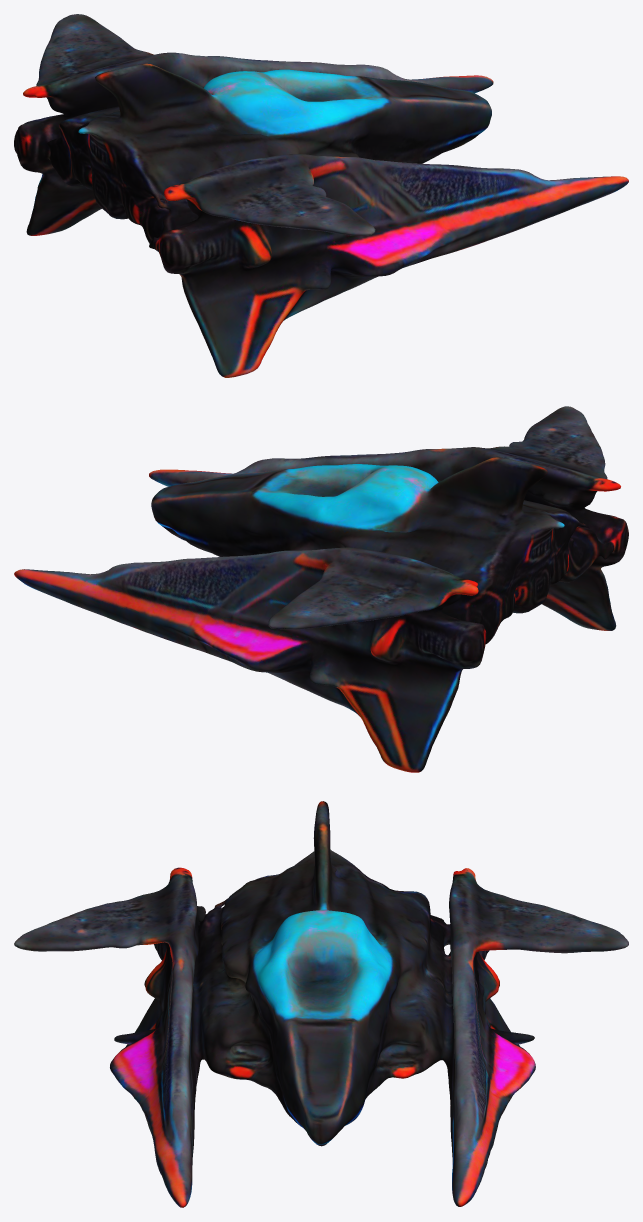
File: spaceship.glb
3 renders of one model, top to bottom at view 1: azimuth 30°, elevation 25°; view 2: azimuth 150°, elevation 25°; view 3: azimuth 270°, elevation 25°, orthographic. The views are drawn at different scales.
Parts seen in each view (by area): view 1: geometry_0; view 2: geometry_0; view 3: geometry_0.
Part boxes in pixels (bbox=[...]): geometry_0: bbox=[14, 14, 628, 377]; geometry_0: bbox=[14, 406, 628, 772]; geometry_0: bbox=[14, 801, 628, 1207].
Size of the model in its own units: 0.4804 by 0.2303 by 0.5156.
1 material, 1 textured.
